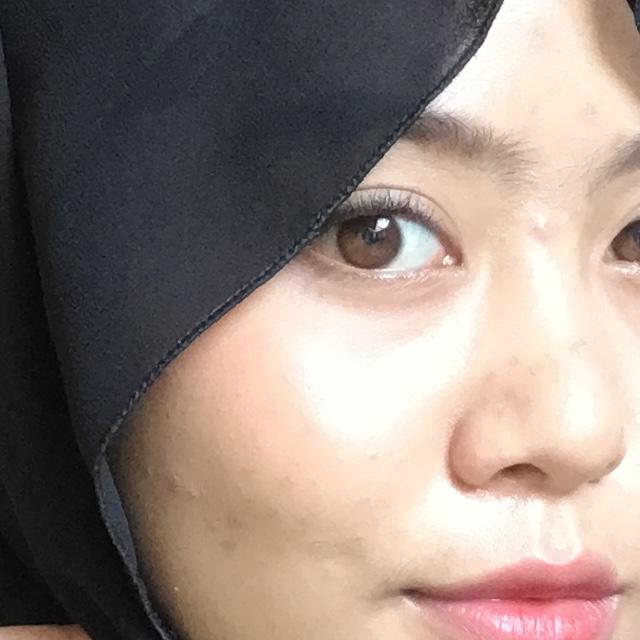mendengar: (0, 36, 435, 640)
